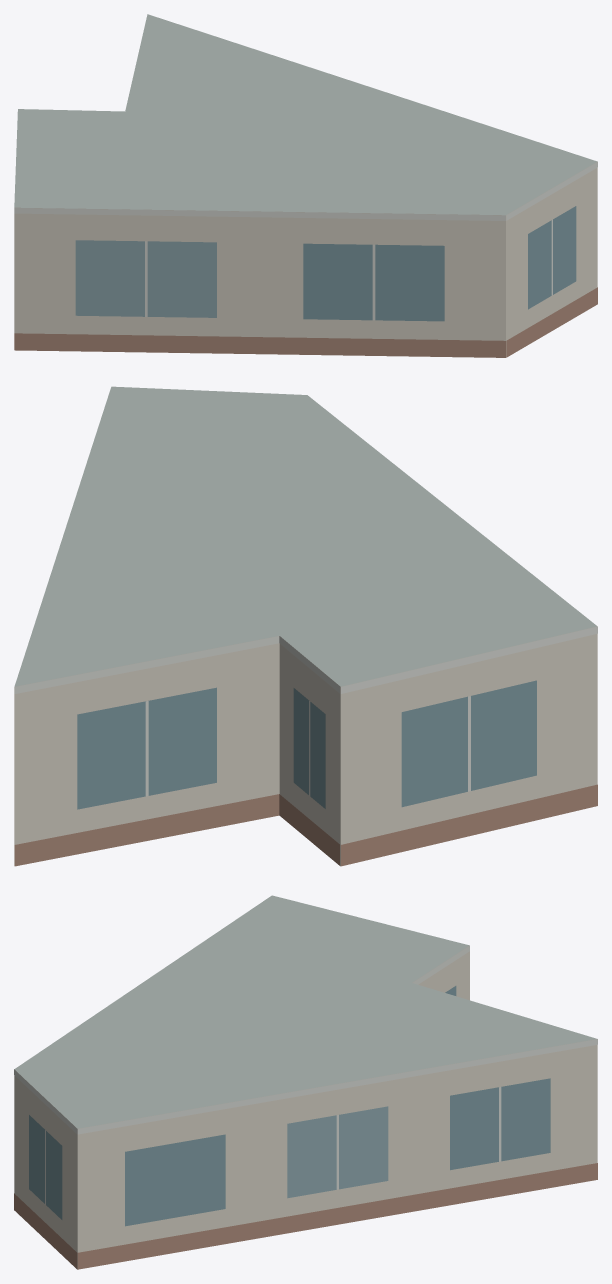
The model's file is survey-upis-32996395.glb.
3 renders of one model, top to bottom at view 1: azimuth 30°, elevation 25°; view 2: azimuth 150°, elevation 25°; view 3: azimuth 270°, elevation 25°, orthographic. The views are drawn at different scales.
Parts seen in each view (by area): view 1: survey-upis-32996395.tmp; view 2: survey-upis-32996395.tmp; view 3: survey-upis-32996395.tmp.
Part boxes in pixels (x1,y1,x2,y2): survey-upis-32996395.tmp: (14,14,597,357); survey-upis-32996395.tmp: (14,386,597,866); survey-upis-32996395.tmp: (14,895,597,1269).
Bounding box in the file's own units: 10.86 × 3.05 × 11.47.
